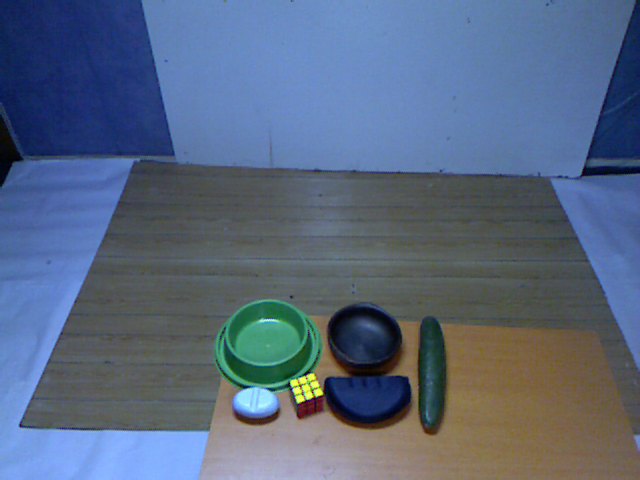cubix: (283, 370, 332, 422)
estuche: (325, 368, 416, 429)
greda: (322, 297, 407, 373)
jabon: (229, 384, 283, 426)
pepino: (412, 312, 452, 442)
platoperro: (210, 293, 323, 392)
